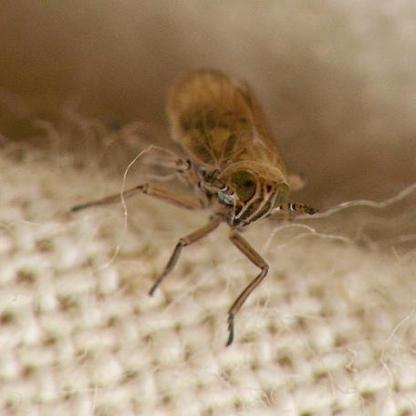brown-planthopper: (163, 68, 305, 230)
